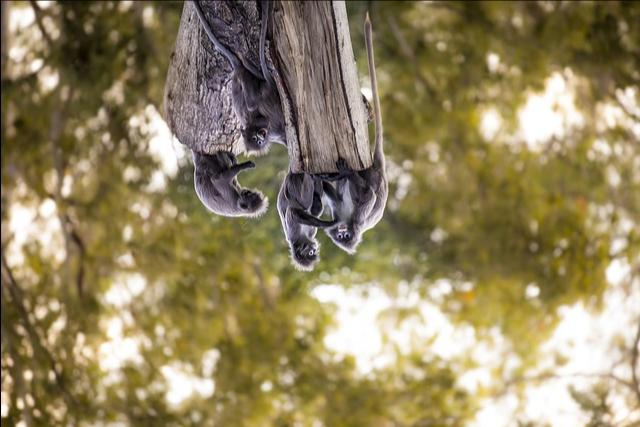Non_Gorille: (159, 0, 419, 320)
